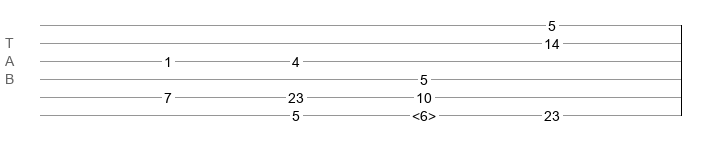1: (164, 54, 172, 64)
10: (416, 90, 432, 100)
14: (544, 36, 560, 46)
23: (288, 90, 304, 100), (544, 108, 560, 118)
4: (292, 54, 300, 64)
5: (292, 108, 300, 118), (420, 72, 428, 82), (548, 18, 556, 28)
7: (164, 90, 172, 100)
harmonic: (412, 108, 436, 118)
